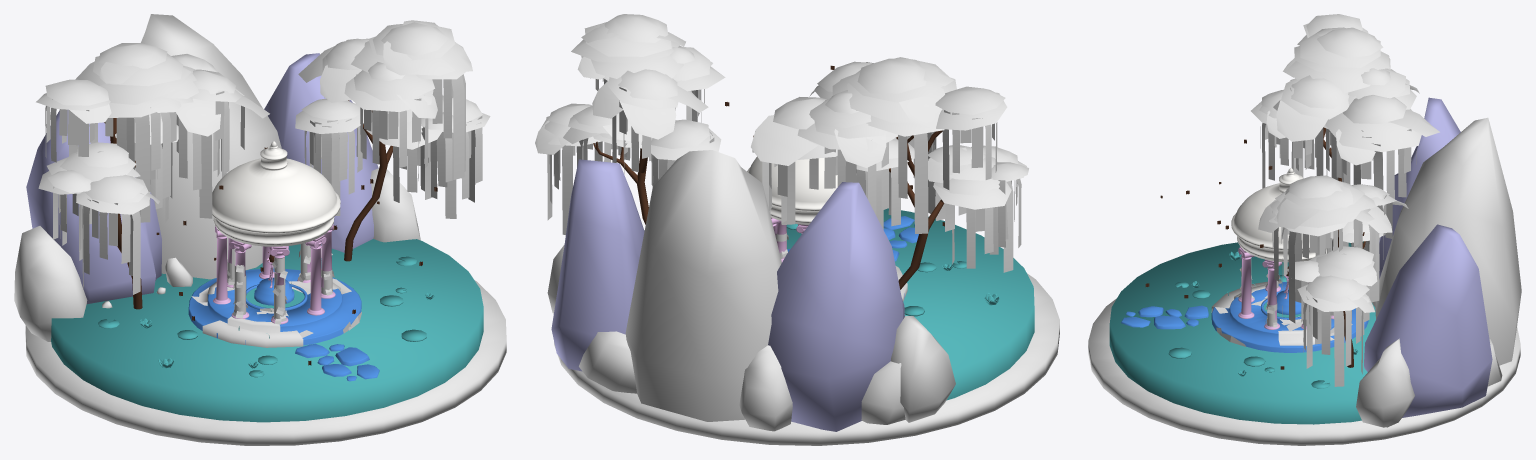
File: templo.fbx
3 renders of one model, left to right at view 1: azimuth 30°, elevation 25°; view 2: azimuth 150°, elevation 25°; view 3: azimuth 270°, elevation 25°, orthographic. The views are drawn at different scales.
Visible parts, largest first — view 1: Cylinder, Plane.044, Plane.037, Cylinder.003, Rock_01, Top, Plane.133, Rock_03, Rock_02, Plane.036, Rock_05.000, bigstairs (+12 smaller); view 2: Rock_01, Plane.044, Rock_03, Cylinder, Rock_02, Plane.037, Cylinder.003, Plane.133, Plane.036, Rock_05.000, Rock_04.003, Rock_04.001 (+7 smaller); view 3: Cylinder, Plane.044, Rock_02, Rock_01, Cylinder.003, Plane.037, Plane.036, Rock_04, bigstairs, Top, Rock_03, Plane.133 (+5 smaller).
Part boxes in pixels (x1,y1,x2,y2): Cylinder: [51, 239, 483, 422]; Plane.044: [36, 43, 269, 222]; Plane.037: [298, 20, 472, 180]; Cylinder.003: [25, 280, 506, 445]; Rock_01: [141, 14, 281, 279]; Top: [212, 141, 340, 246]; Plane.133: [38, 142, 159, 294]; Rock_03: [26, 110, 161, 304]; Rock_02: [264, 53, 378, 252]; Plane.036: [366, 95, 490, 218]; Rock_05.000: [14, 226, 87, 341]; bigstairs: [188, 269, 361, 345]; Rock_01: [625, 150, 781, 421]; Plane.044: [751, 57, 1007, 233]; Rock_03: [768, 182, 904, 431]; Cylinder: [786, 208, 1034, 400]; Rock_02: [551, 159, 644, 371]; Plane.037: [571, 14, 725, 173]; Cylinder.003: [554, 273, 1059, 445]; Plane.133: [928, 145, 1028, 272]; Plane.036: [535, 103, 642, 234]; Rock_05.000: [890, 316, 955, 422]; Rock_04.003: [739, 345, 792, 431]; Rock_04.001: [579, 331, 636, 393]; Cylinder: [1109, 241, 1375, 424]; Plane.044: [1273, 14, 1439, 211]; Rock_02: [1364, 224, 1492, 417]; Rock_01: [1375, 117, 1521, 365]; Cylinder.003: [1088, 298, 1520, 445]; Plane.037: [1258, 175, 1408, 323]; Plane.036: [1287, 246, 1377, 386]; Rock_04: [1356, 338, 1414, 427]; bigstairs: [1211, 282, 1368, 352]; Top: [1231, 168, 1332, 262]; Rock_03: [1379, 97, 1460, 279]; Plane.133: [1251, 79, 1331, 188].
Bounding box in the file's own units: 3398 × 2223 × 3186.
